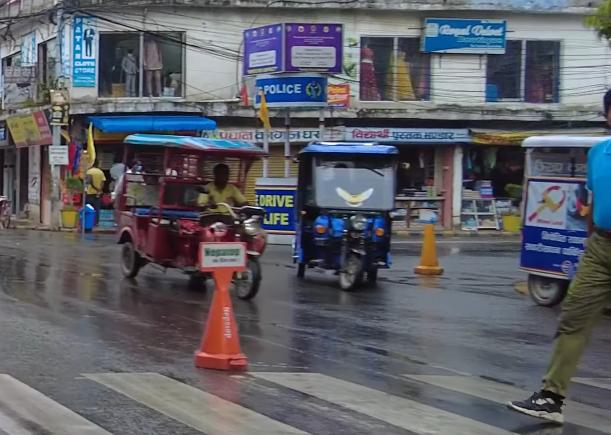e-rickshaw: (102, 109, 270, 297), (287, 132, 404, 294)
